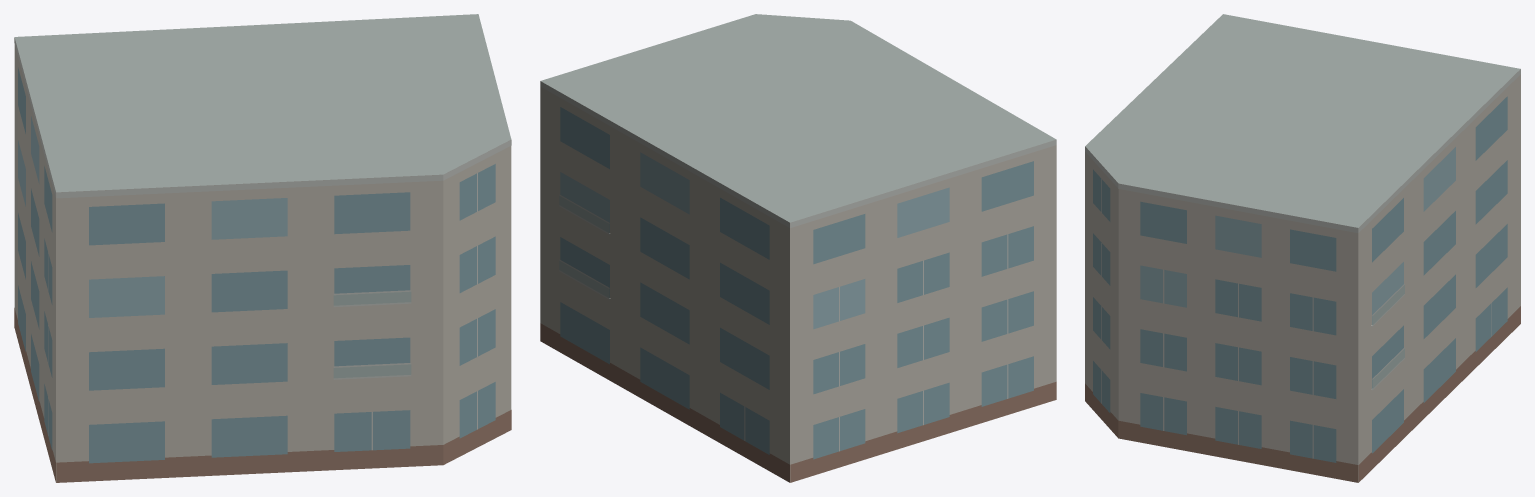
The model's file is survey-upis-32532136.glb.
The picture shows the model from 3 angles, left to right: view 1: azimuth 30°, elevation 25°; view 2: azimuth 150°, elevation 25°; view 3: azimuth 270°, elevation 25°; orthographic projection. The views are drawn at different scales.
Visible parts, largest first — view 1: survey-upis-32532136.tmp; view 2: survey-upis-32532136.tmp; view 3: survey-upis-32532136.tmp.
Part boxes in pixels (<box>): survey-upis-32532136.tmp: <box>14,14,511,482</box>; survey-upis-32532136.tmp: <box>540,14,1056,482</box>; survey-upis-32532136.tmp: <box>1085,14,1520,482</box>.
Bounding box in the file's own units: 20.88 × 11.6 × 17.98.
